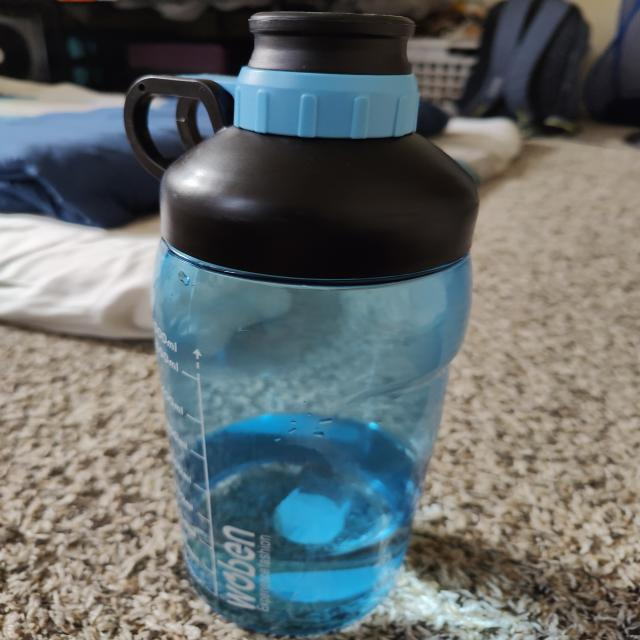bottle: (135, 12, 472, 612)
